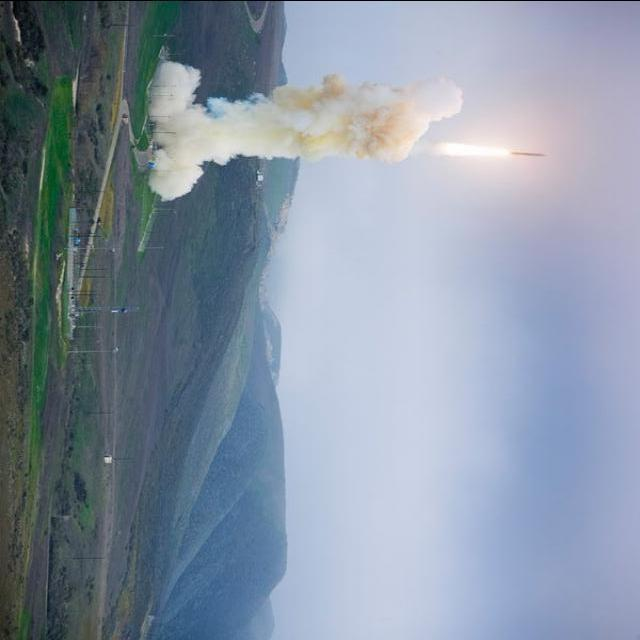missile: (510, 136, 550, 173)
